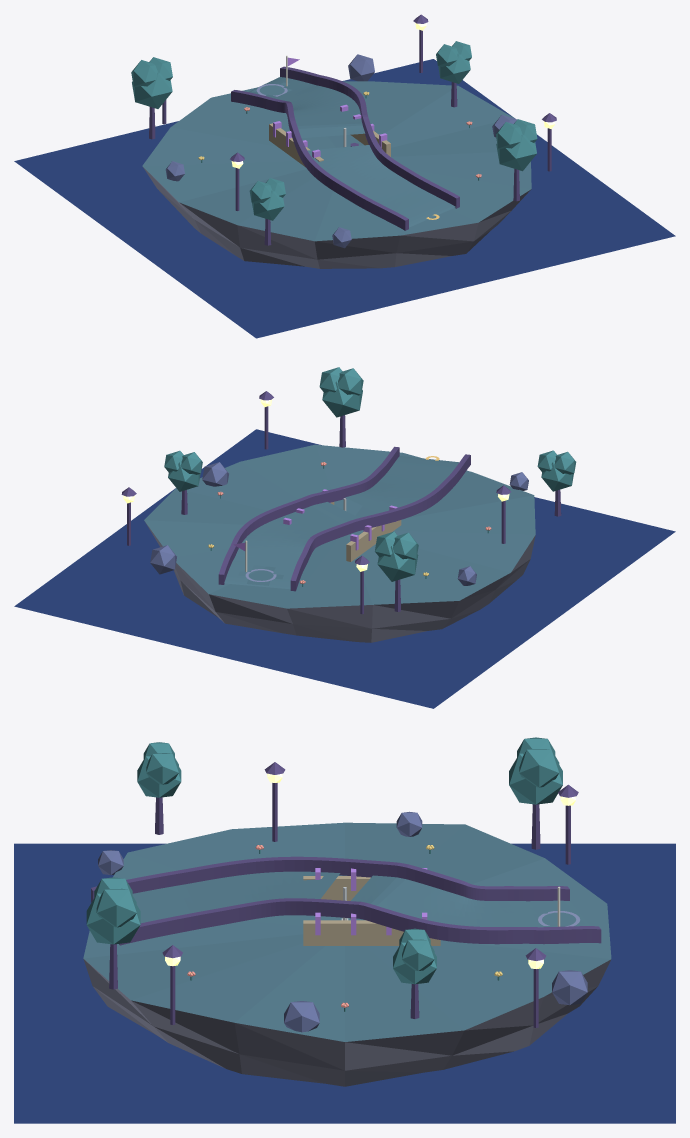
Rendered from course-15.glb.
3 views of the same model, one above another, from view 1: azimuth 30°, elevation 25°; view 2: azimuth 150°, elevation 25°; view 3: azimuth 270°, elevation 25° (orthographic). The views are drawn at different scales.
Parts seen in each view (by area): view 1: water-plane.014, island-turf-edge.014, island-rock-plinth.014, surface-grass, rail-left, rail-right, faceted-canopy.105, faceted-canopy.099, faceted-canopy.096, faceted-rock.107, faceted-canopy.102, bridge-parapet.002 (+2 smaller); view 2: water-plane.014, island-turf-edge.014, island-rock-plinth.014, surface-grass, rail-left, rail-right, faceted-canopy.099, faceted-canopy.105, bridge-parapet.002, faceted-rock.107, faceted-canopy.106, faceted-canopy.100 (+3 smaller); view 3: water-plane.014, island-turf-edge.014, island-rock-plinth.014, surface-grass, rail-right, rail-left, bridge-parapet.003, faceted-canopy.105, faceted-canopy.099, faceted-canopy.101, faceted-canopy.107, faceted-rock.107 (+6 smaller).
Boxes of the visible parts, x1=… form: water-plane.014: x1=14, y1=59, x2=675, y2=338; island-turf-edge.014: x1=142, y1=81, x2=531, y2=241; island-rock-plinth.014: x1=143, y1=167, x2=531, y2=268; surface-grass: x1=248, y1=77, x2=455, y2=227; rail-left: x1=231, y1=90, x2=408, y2=230; rail-right: x1=280, y1=66, x2=459, y2=208; faceted-canopy.105: x1=496, y1=134, x2=536, y2=171; faceted-canopy.099: x1=132, y1=72, x2=172, y2=108; faceted-canopy.096: x1=252, y1=190, x2=284, y2=220; faceted-rock.107: x1=348, y1=54, x2=374, y2=81; faceted-canopy.102: x1=438, y1=53, x2=470, y2=83; bridge-parapet.002: x1=269, y1=123, x2=323, y2=167; water-plane.014: x1=14, y1=429, x2=675, y2=708; island-turf-edge.014: x1=144, y1=444, x2=535, y2=608; island-rock-plinth.014: x1=145, y1=522, x2=535, y2=642; surface-grass: x1=224, y1=456, x2=458, y2=589; rail-left: x1=290, y1=454, x2=470, y2=591; rail-right: x1=218, y1=446, x2=399, y2=584; faceted-canopy.099: x1=377, y1=545, x2=418, y2=581; faceted-canopy.105: x1=322, y1=381, x2=362, y2=417; bridge-parapet.002: x1=346, y1=520, x2=401, y2=561; faceted-rock.107: x1=150, y1=545, x2=176, y2=574; faceted-canopy.106: x1=337, y1=368, x2=363, y2=395; faceted-canopy.100: x1=393, y1=532, x2=418, y2=559; water-plane.014: x1=14, y1=843, x2=675, y2=1123; island-turf-edge.014: x1=83, y1=822, x2=611, y2=1041; island-rock-plinth.014: x1=83, y1=959, x2=610, y2=1086; surface-grass: x1=132, y1=871, x2=588, y2=927; rail-right: x1=119, y1=898, x2=601, y2=945; rail-left: x1=91, y1=856, x2=569, y2=902; bridge-parapet.003: x1=303, y1=920, x2=440, y2=945; faceted-canopy.105: x1=86, y1=893, x2=140, y2=944; faceted-canopy.099: x1=509, y1=753, x2=562, y2=804; faceted-canopy.101: x1=519, y1=749, x2=559, y2=787; faceted-canopy.107: x1=96, y1=888, x2=136, y2=927; faceted-rock.107: x1=552, y1=970, x2=587, y2=1005.
Size of the model in its own units: 12.3 by 3.35 by 12.3.
